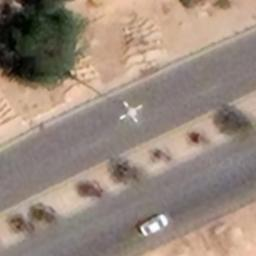sedan: (132, 210, 172, 239)
